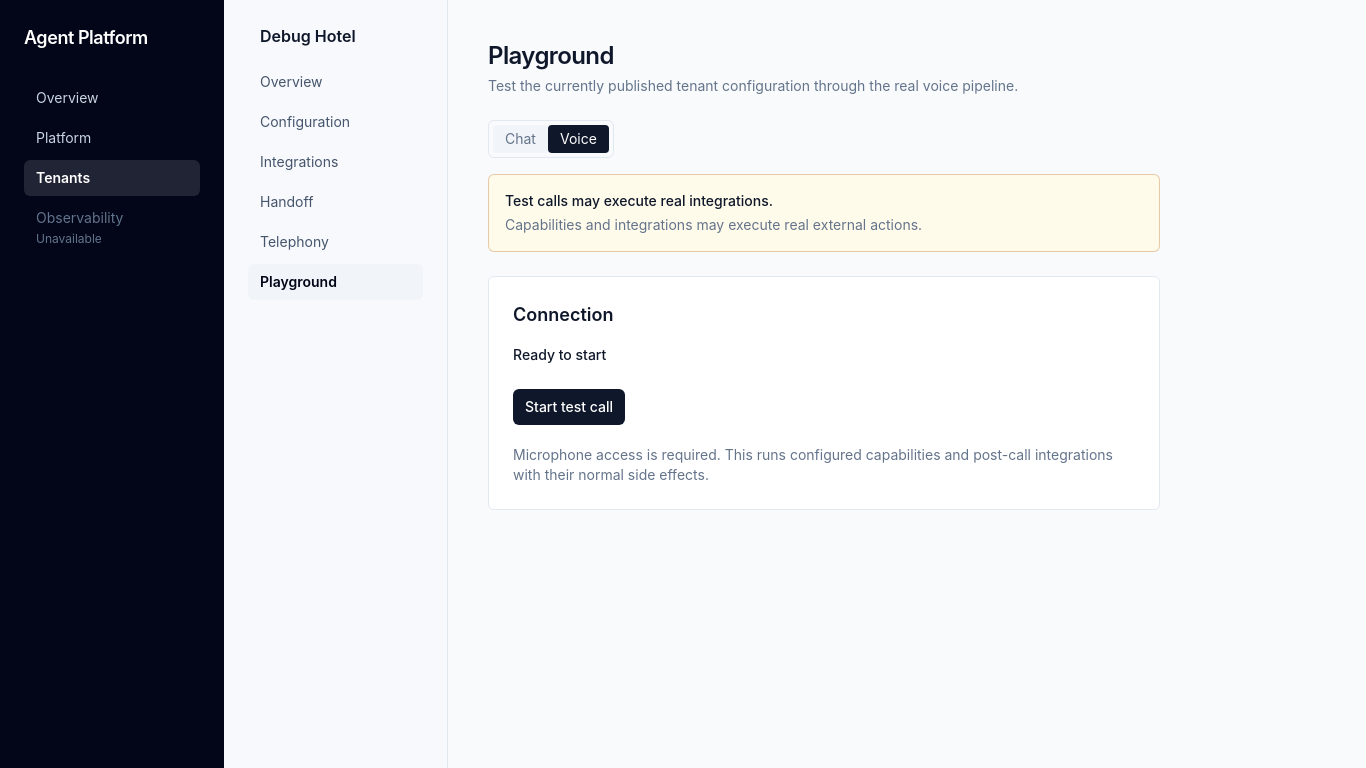
it: Playground voice call › shows microphone permission and device failures with retry
This screenshot has width=1366, height=768.
Click the button "Start test call" at (569,407), box [513,389,625,425]
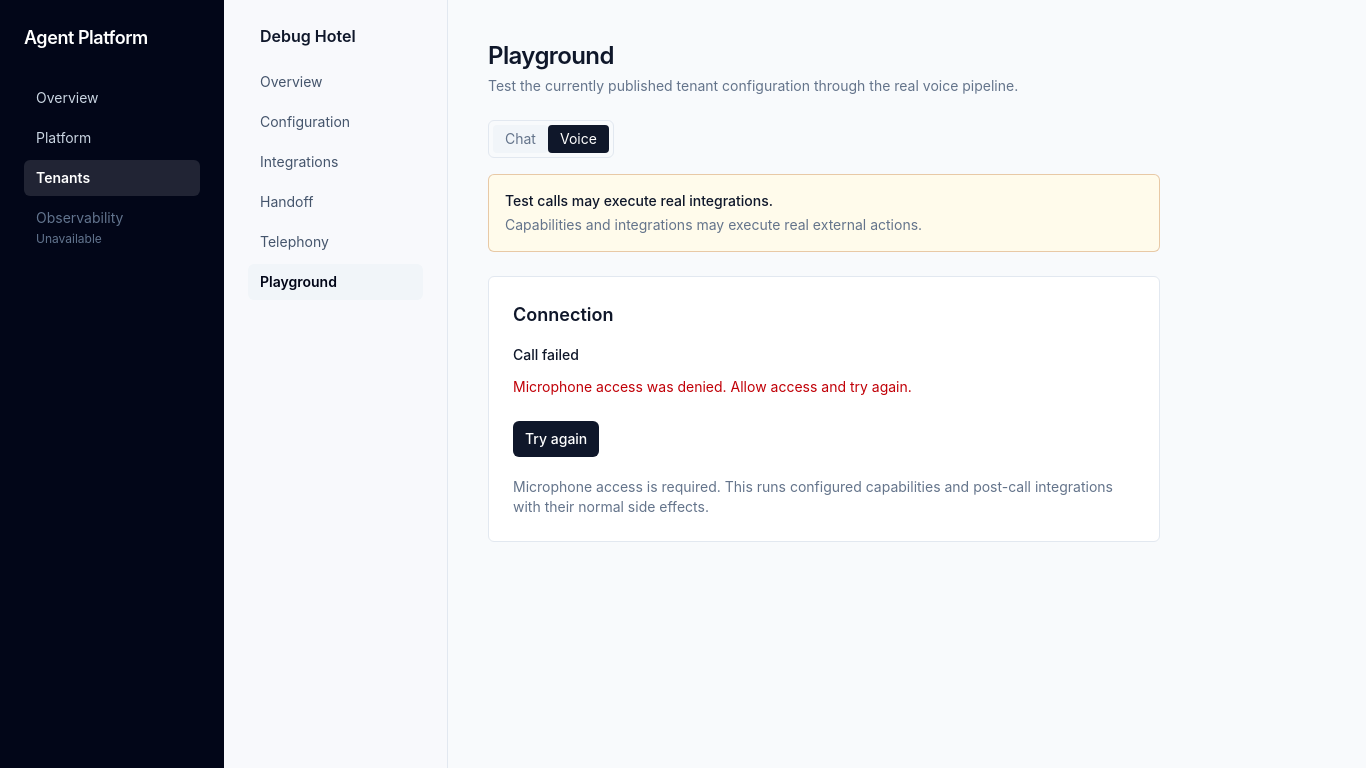
Now the text "Microphone access was denied. Allow access and try again." is shown, box [513,378,912,395]
Now the button "Try again" is shown
Click the button "Try again" at (556,439), box [513,421,599,457]
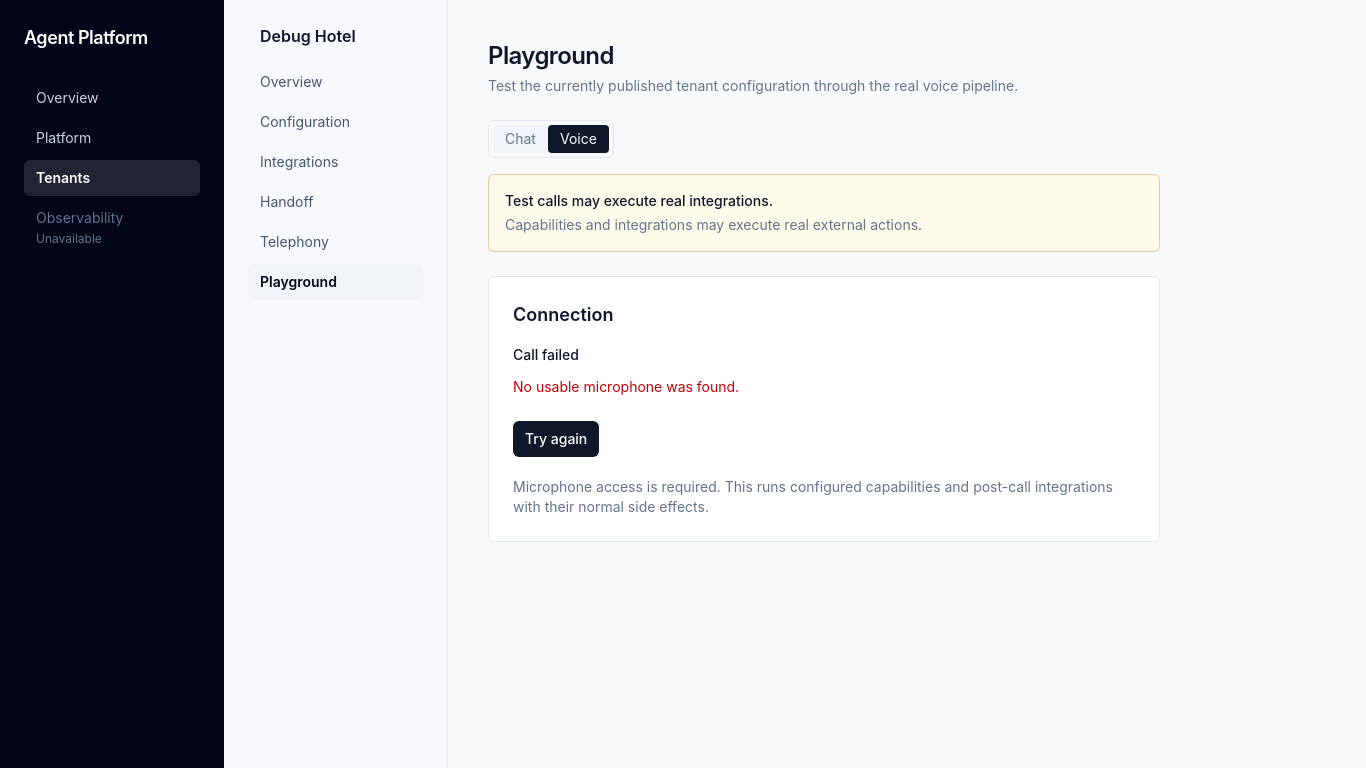
Now the text "No usable microphone was found." is shown, box [513,378,739,395]
